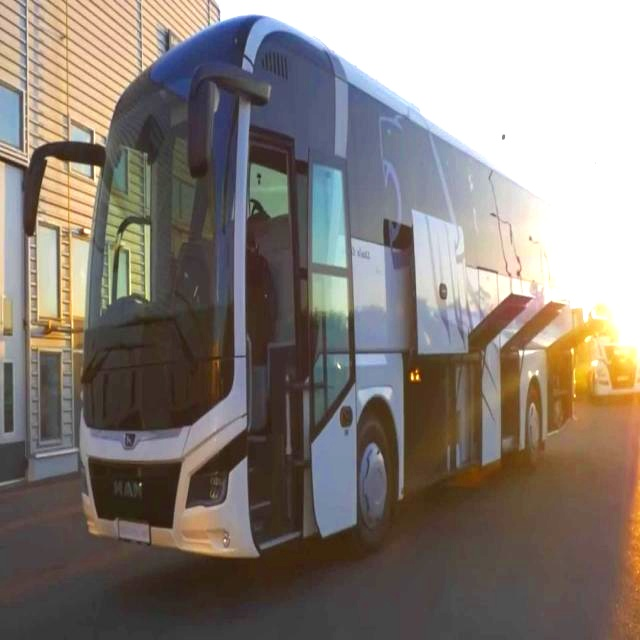bus: (7, 7, 589, 573)
